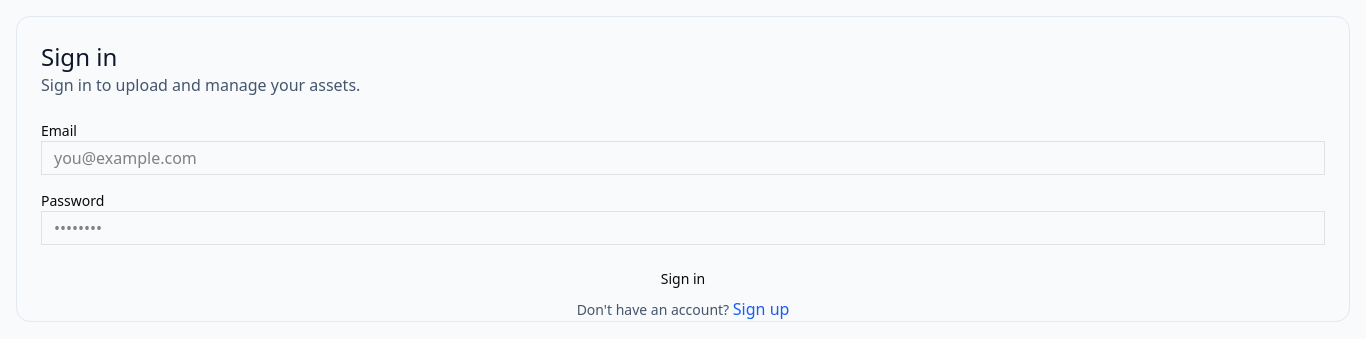
Test: AuthForm › renders login by default and can switch to signup
Expected: the heading "Sign in" is shown, [41, 40, 117, 73]
Click the button "Sign up" at (761, 309), box [733, 297, 789, 321]
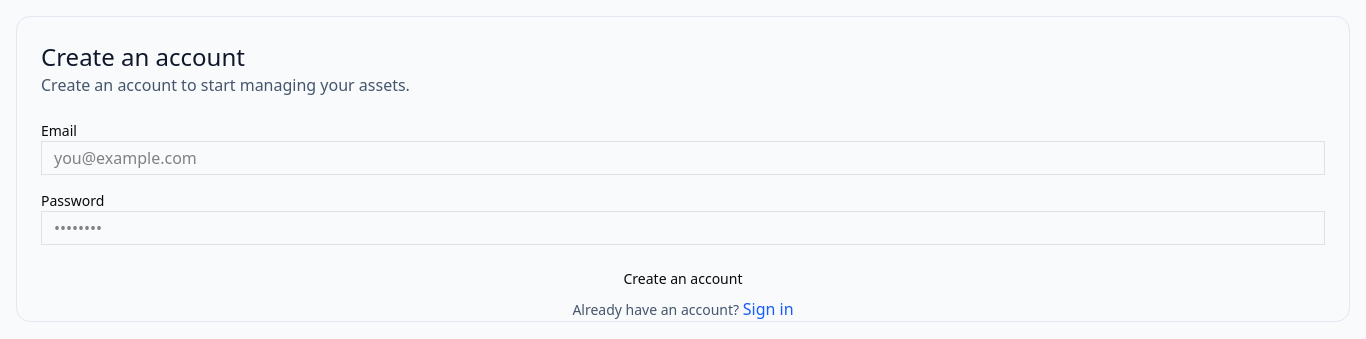
Expected: the heading "Create an account" is shown, [41, 40, 245, 73]
